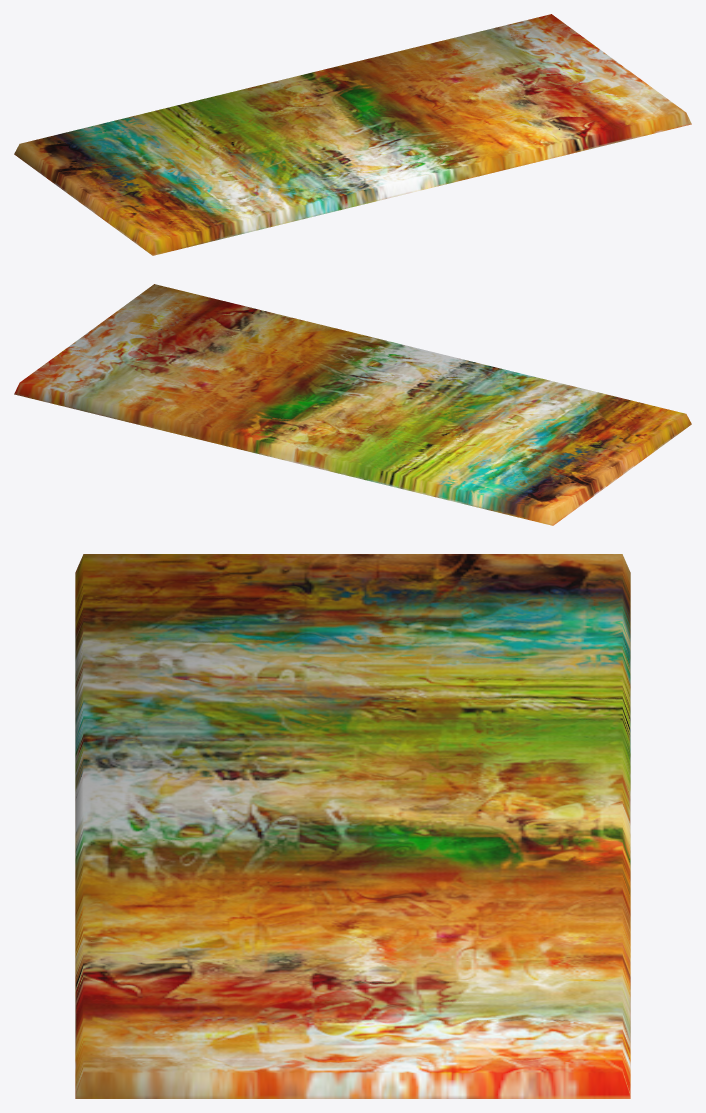
The model's file is painting2.dae.
3 views of the same model, one above another, from view 1: azimuth 30°, elevation 25°; view 2: azimuth 150°, elevation 25°; view 3: azimuth 270°, elevation 25° (orthographic). The views are drawn at different scales.
Parts seen in each view (by area): view 1: SketchUp; view 2: SketchUp; view 3: SketchUp.
Part boxes in pixels (x1,y1,x2,y2): SketchUp: (14,14,691,255); SketchUp: (14,284,691,525); SketchUp: (75,554,630,1098).
Bounding box in the file's own units: 60.04 × 26.78 × 1.18.
